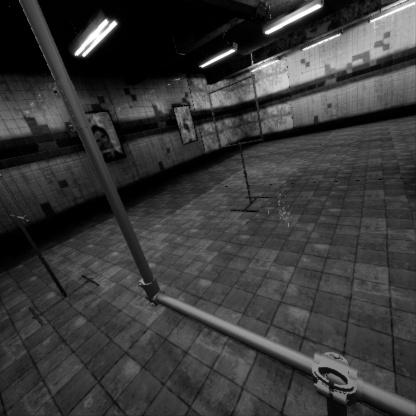gate: (208, 266, 268, 343)
